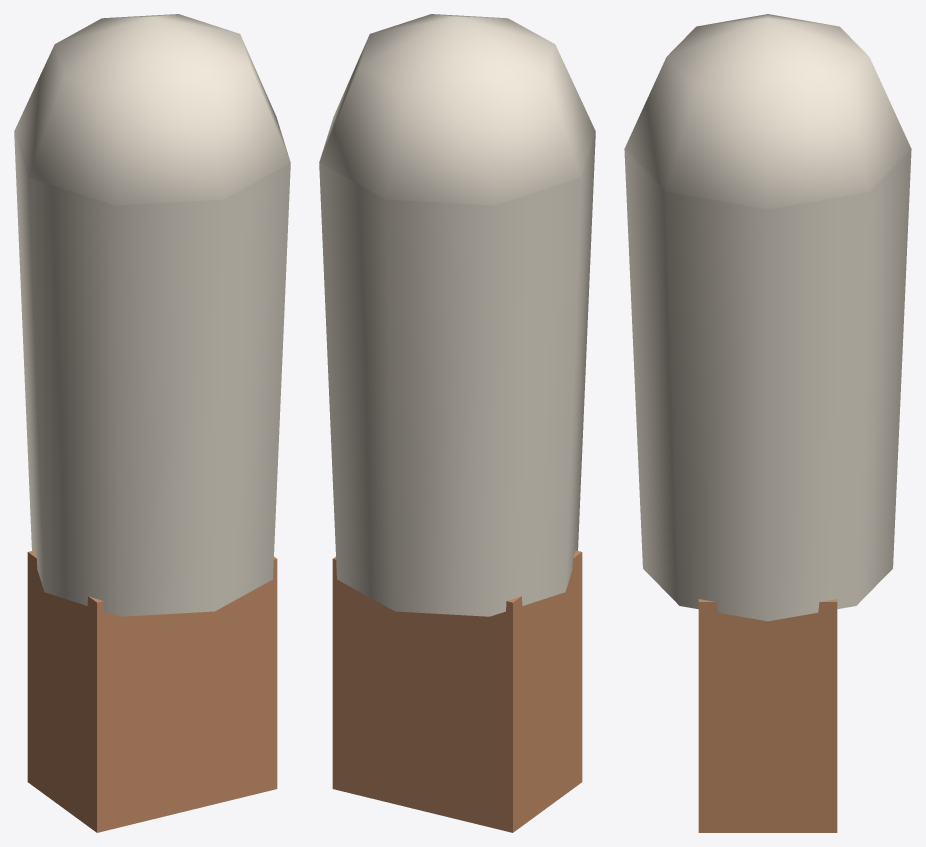
The model's file is PFlor_Antebrazo.obj.
3 views of the same model, side by side, from view 1: azimuth 30°, elevation 25°; view 2: azimuth 150°, elevation 25°; view 3: azimuth 270°, elevation 25° (orthographic).
Visible parts, largest first — view 1: Antebrazo; view 2: Antebrazo; view 3: Antebrazo.
Part boxes in pixels (x1,y1,x2,y2): Antebrazo: (14,14,290,832); Antebrazo: (319,14,595,832); Antebrazo: (624,14,911,832).
Bounding box in the file's own units: 0.062 × 0.1835 × 0.062.
1 material, 1 textured.
